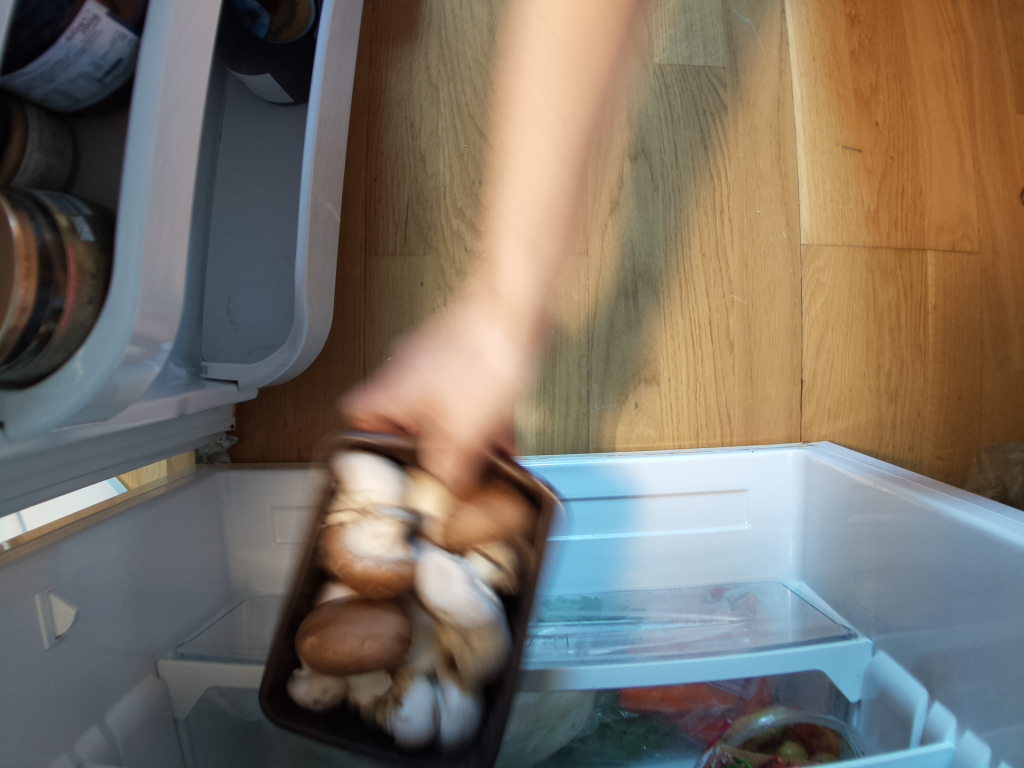mushrooms: (276, 435, 536, 768)
